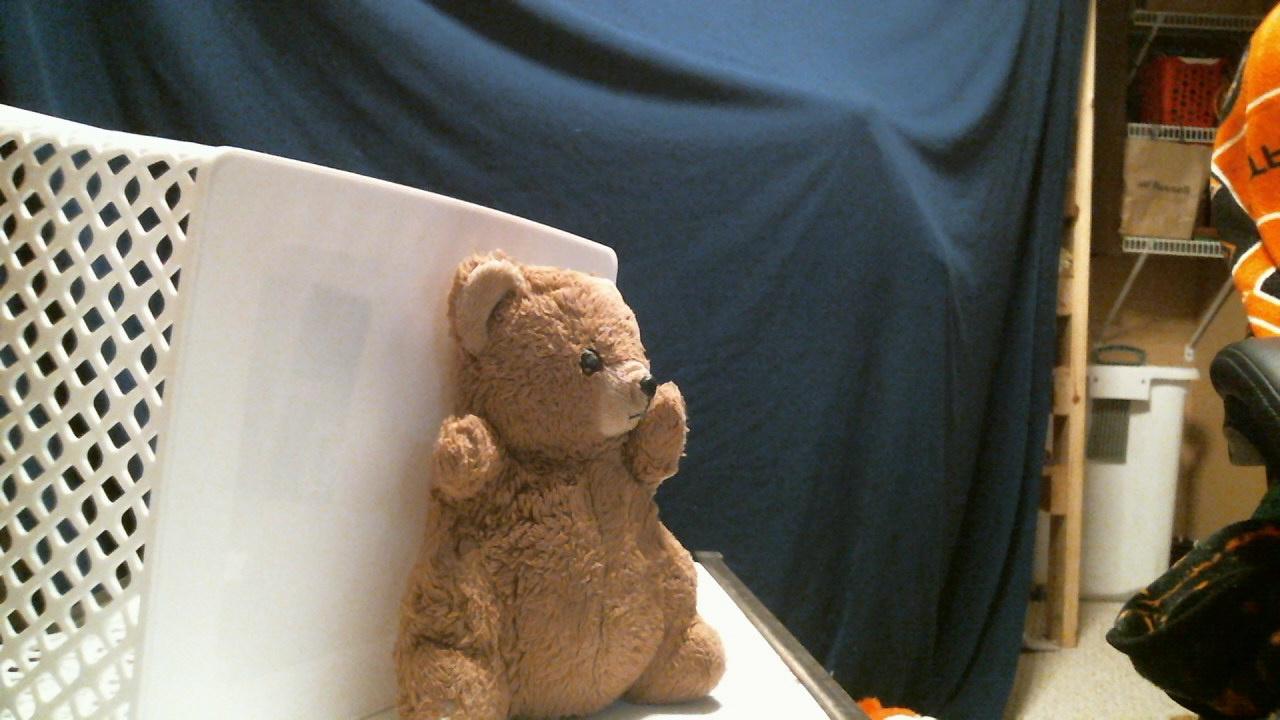Little_Mister_Bear: (576, 335, 653, 444)
